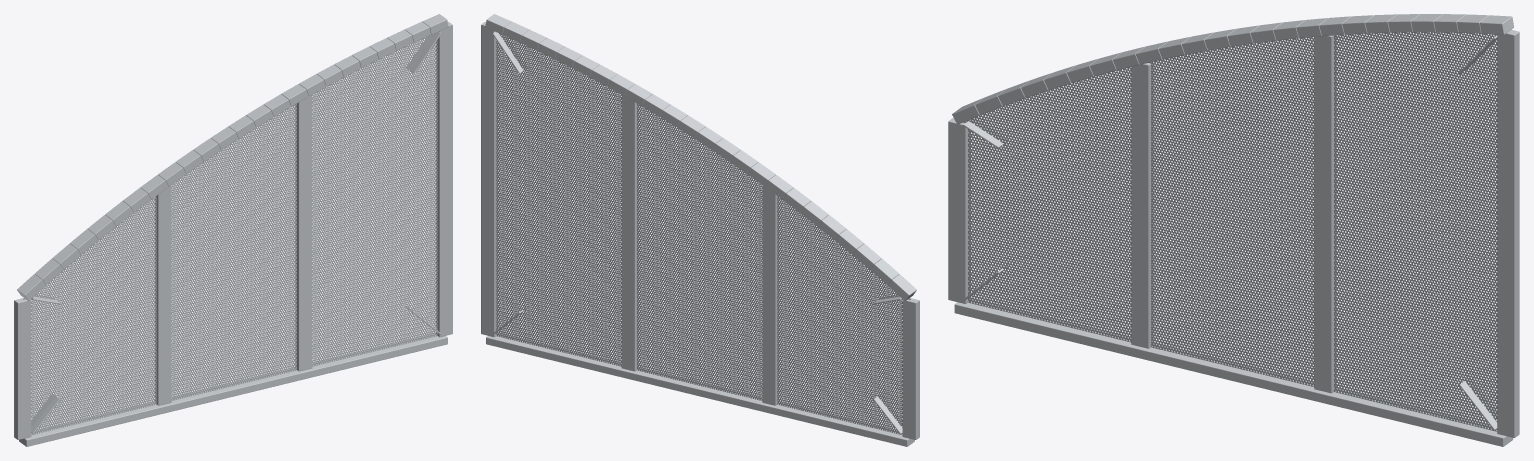
3 views of the same model, side by side, from view 1: azimuth 30°, elevation 25°; view 2: azimuth 150°, elevation 25°; view 3: azimuth 330°, elevation 25° (orthographic). The views are drawn at different scales.
Parts seen in each view (by area): view 1: K3_-1_-1 blacha, K3_-1_-1 dolny, K3_-1_-1 pion.001, K3_-1_-1 pion.003, K3_-1_-1 pion.002, K3_-1_-1 pion, K3_-1_-1 gorny; view 2: K3_-1_-1 blacha, K3_-1_-1 dolny, K3_-1_-1 pion.001, K3_-1_-1 pion.003, K3_-1_-1 pion.002, K3_-1_-1 pion, K3_-1_-1 gorny; view 3: K3_-1_-1 blacha, K3_-1_-1 pion.001, K3_-1_-1 dolny, K3_-1_-1 pion.003, K3_-1_-1 pion.002, K3_-1_-1 pion, K3_-1_-1 skos dol.001, K3_-1_-1 gorny.023.
Part boxes in pixels (x1,y1,x2,y2): K3_-1_-1 blacha: (23, 33, 437, 435); K3_-1_-1 dolny: (19, 333, 447, 446); K3_-1_-1 pion.001: (436, 22, 452, 337); K3_-1_-1 pion.003: (295, 95, 312, 371); K3_-1_-1 pion.002: (154, 185, 171, 405); K3_-1_-1 pion: (14, 298, 31, 439); K3_-1_-1 gorny: (17, 274, 45, 301); K3_-1_-1 blacha: (496, 33, 910, 435); K3_-1_-1 dolny: (486, 333, 914, 446); K3_-1_-1 pion.001: (481, 22, 497, 337); K3_-1_-1 pion.003: (621, 95, 638, 371); K3_-1_-1 pion.002: (762, 185, 779, 405); K3_-1_-1 pion: (902, 298, 919, 439); K3_-1_-1 gorny: (888, 274, 916, 301); K3_-1_-1 blacha: (963, 32, 1497, 431); K3_-1_-1 pion.001: (1497, 29, 1519, 437); K3_-1_-1 dolny: (954, 299, 1513, 446); K3_-1_-1 pion.003: (1314, 35, 1336, 393); K3_-1_-1 pion.002: (1131, 61, 1153, 348); K3_-1_-1 pion: (948, 118, 970, 303); K3_-1_-1 skos dol.001: (1459, 379, 1497, 430); K3_-1_-1 gorny.023: (1480, 15, 1513, 34).
Size of the model in its own units: 1.6 by 1.15 by 0.05.
Materials: 2 (1 with a texture image).
